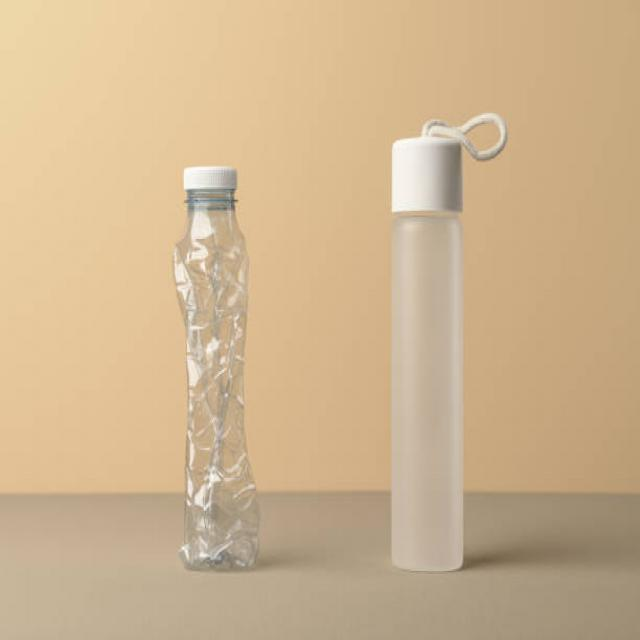glass: (390, 136, 469, 568)
plastic: (187, 162, 247, 568)
